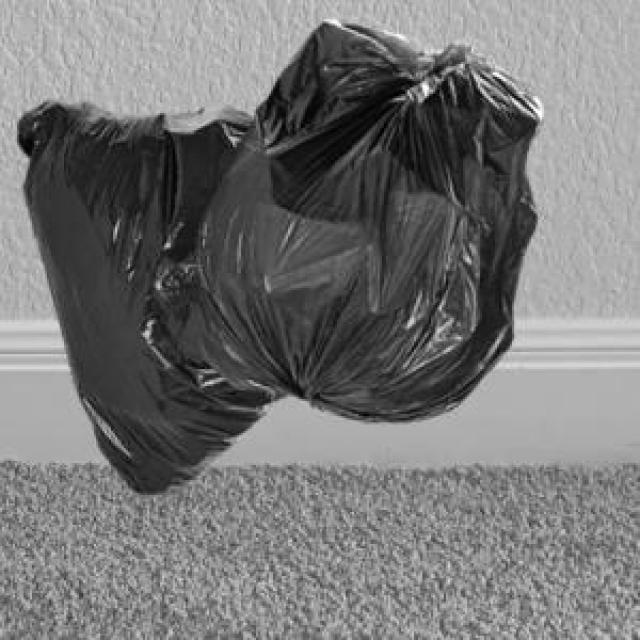miscellaneous trash: (192, 15, 538, 418), (15, 94, 290, 491)
